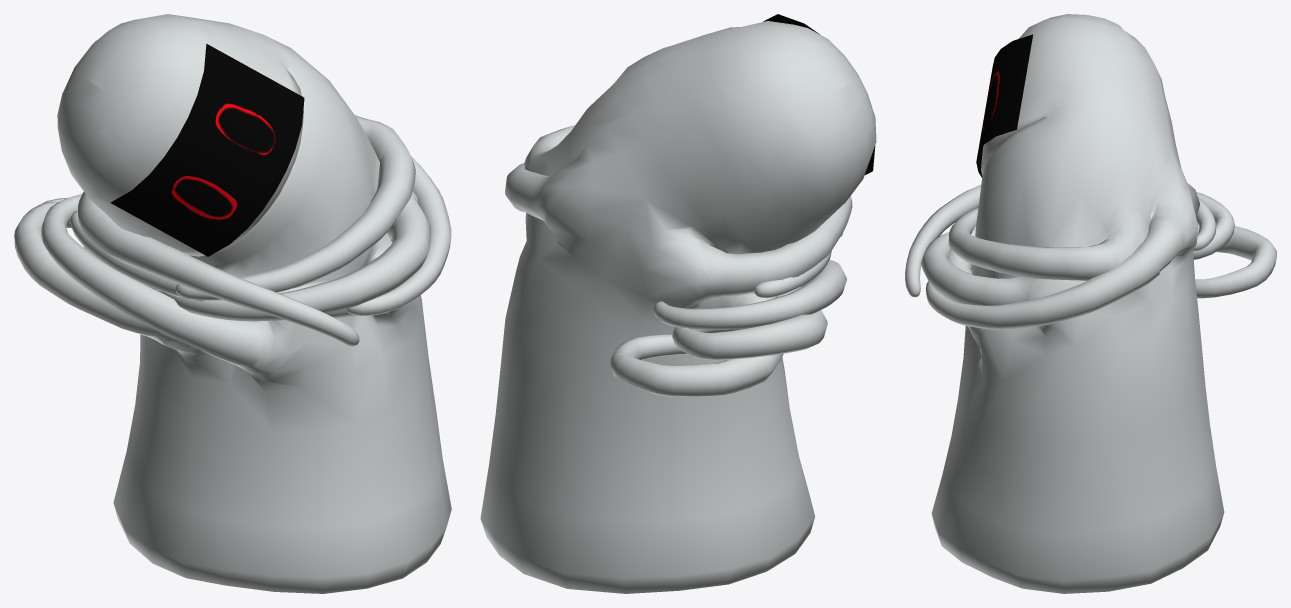
File: TamagotchiKoralj_Test-Sleeping-002.fbx
3 renders of one model, left to right at view 1: azimuth 30°, elevation 25°; view 2: azimuth 150°, elevation 25°; view 3: azimuth 270°, elevation 25°, orthographic. The views are drawn at different scales.
Visible parts, largest first — view 1: Koralj-Body.003, Koralj-EyePlane.003; view 2: Koralj-Body.003; view 3: Koralj-Body.003, Koralj-EyePlane.003.
Part boxes in pixels (<box>): Koralj-Body.003: <box>14,14,451,593</box>; Koralj-EyePlane.003: <box>110,43,304,256</box>; Koralj-Body.003: <box>480,21,876,593</box>; Koralj-Body.003: <box>905,14,1276,593</box>; Koralj-EyePlane.003: <box>976,34,1033,177</box>.
Size of the model in its own units: 124 by 183 by 131.
